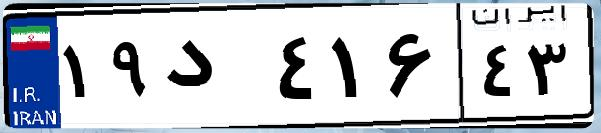1: (330, 28, 385, 110), (57, 26, 110, 100)
3: (525, 38, 570, 115)
4: (270, 28, 330, 110), (475, 38, 525, 113)
6: (385, 28, 445, 110)
9: (110, 28, 158, 98)
د: (158, 20, 270, 120)
